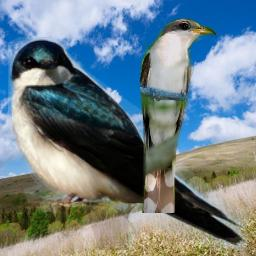Cuckoo: (138, 17, 217, 213)
Swallow: (8, 37, 247, 250)
